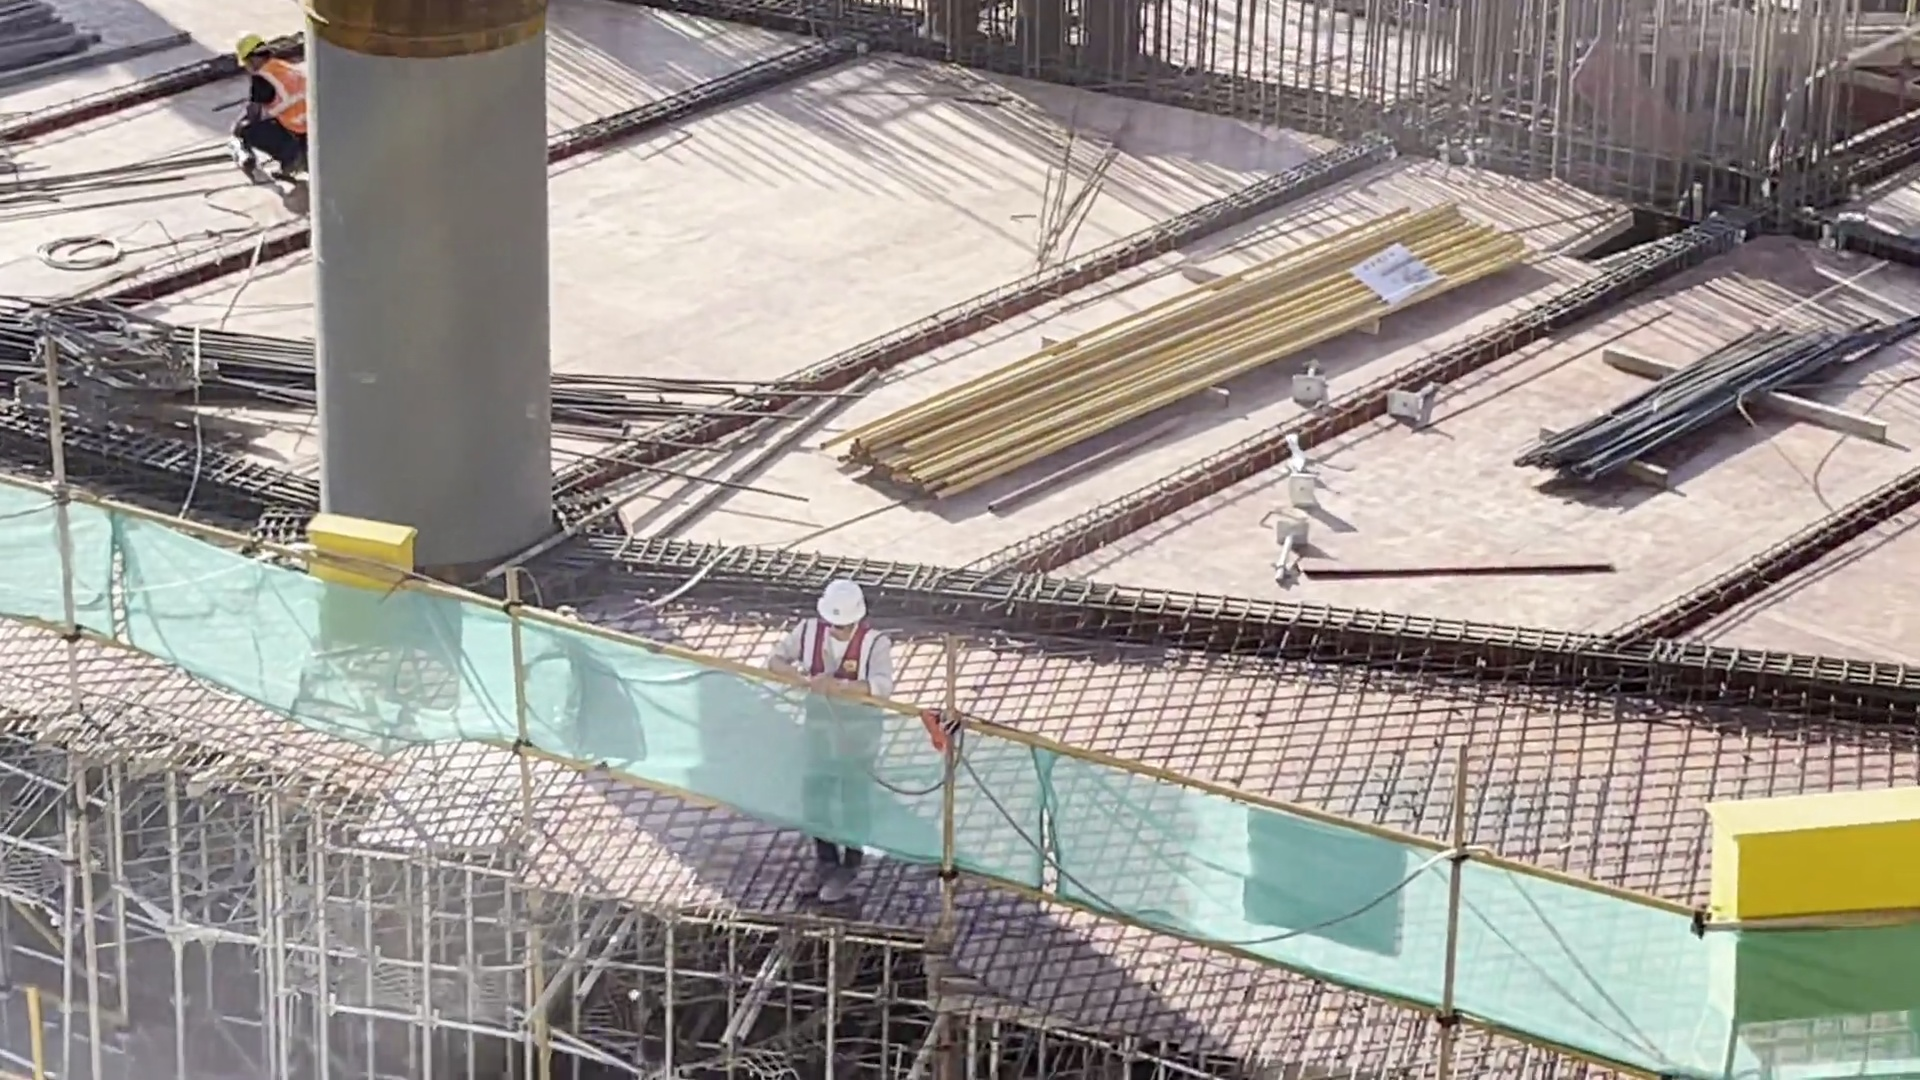helmet: (813, 571, 865, 626), (235, 37, 272, 63)
person: (777, 560, 894, 901), (214, 32, 329, 200)
vest: (800, 615, 882, 778), (252, 61, 315, 131)
